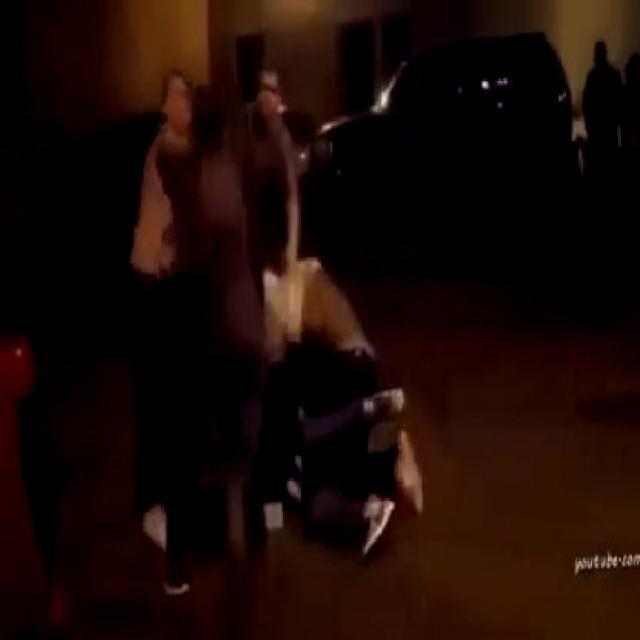fight: (120, 70, 263, 595), (218, 256, 428, 558)
